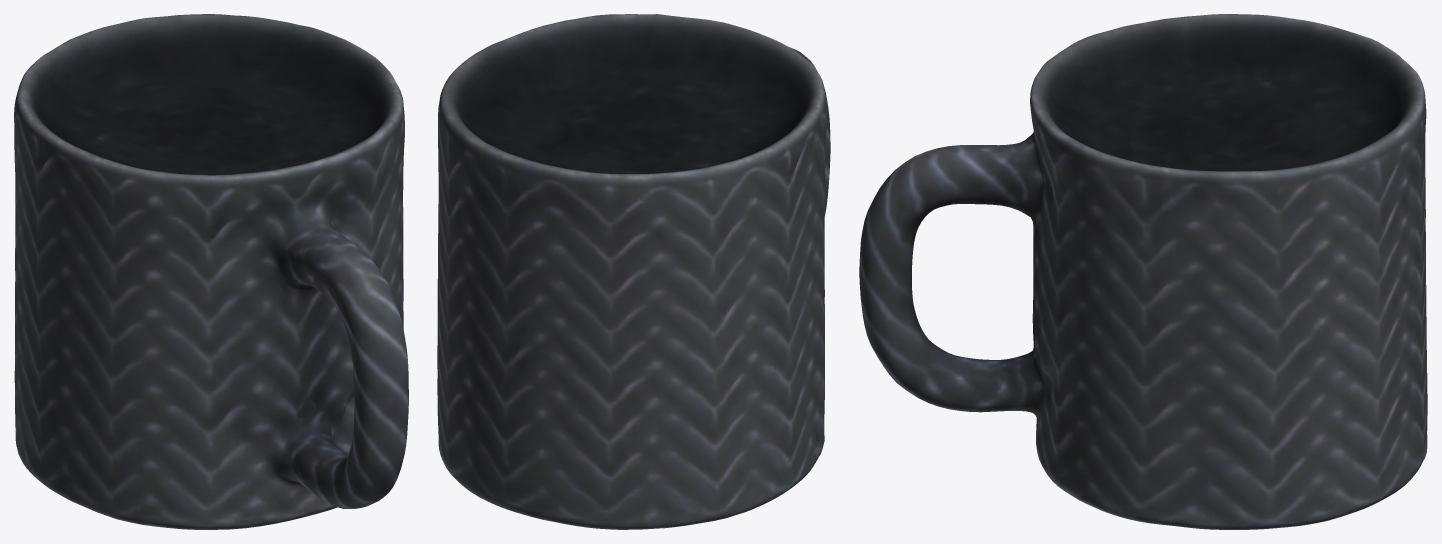
File: coffee_mug_refined_2.glb
3 views of the same model, side by side, from view 1: azimuth 30°, elevation 25°; view 2: azimuth 150°, elevation 25°; view 3: azimuth 270°, elevation 25° (orthographic).
Parts seen in each view (by area): view 1: mesh; view 2: mesh; view 3: mesh.
Boxes of the visible parts, <box> form: mesh: <box>14,14,408,529</box>; mesh: <box>437,14,830,529</box>; mesh: <box>859,14,1427,529</box>.
Size of the model in its own units: 0.6802 by 0.7003 by 0.9993.
Materials: 1 (1 with a texture image).
